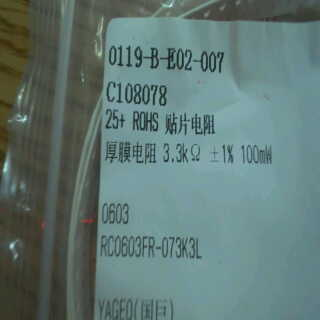3.3kO: (159, 141, 205, 168)
